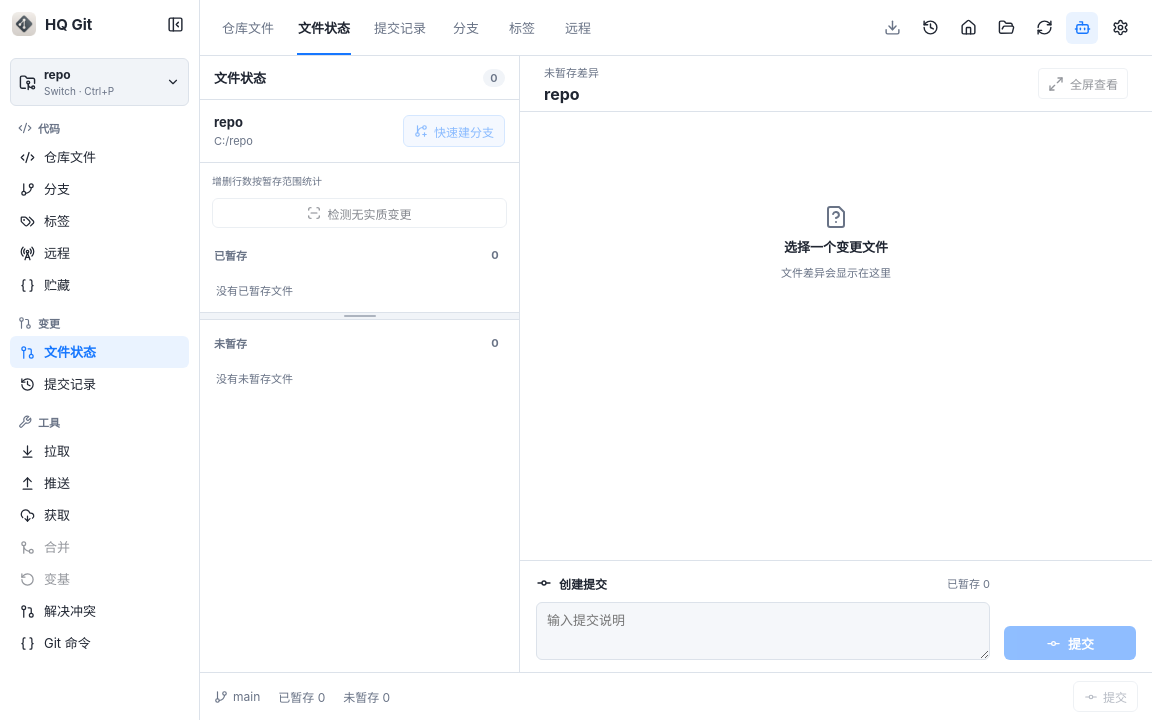
conflict workbench › requires acknowledgement for remaining conflict markers
Step 1. Click the button with aria-label "打开解决冲突" → (100, 611), box left=10, top=595, right=189, bottom=627
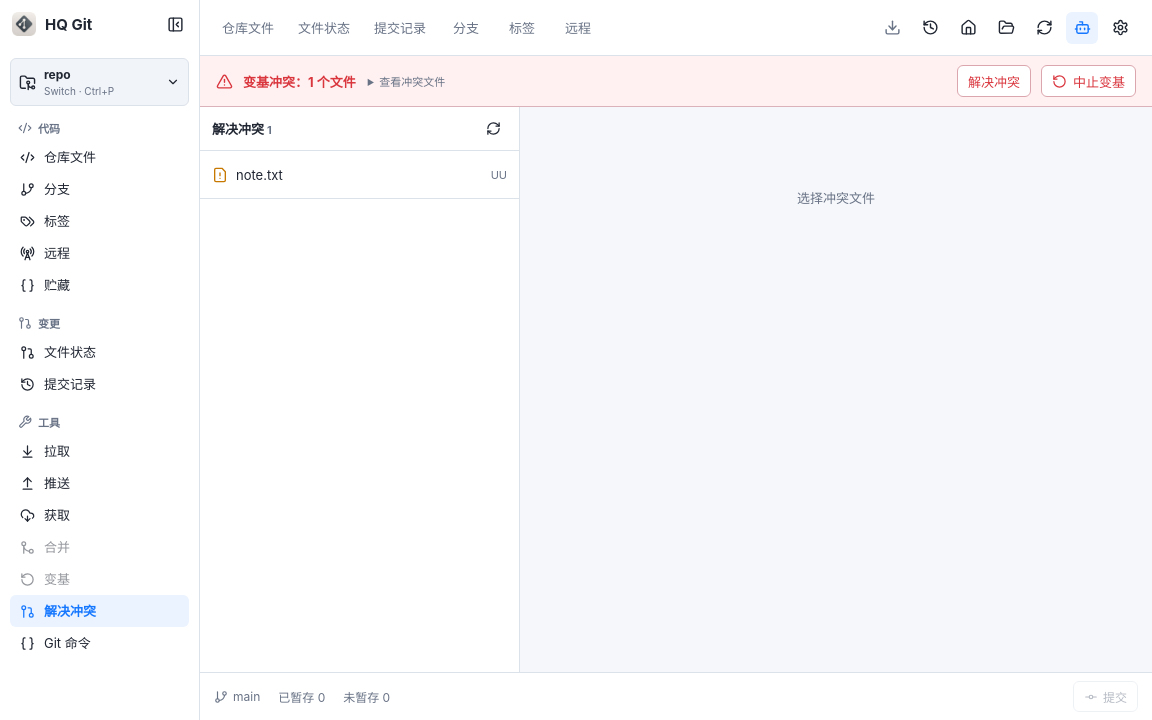
Step 2. Click the button with aria-label "查看冲突 note.txt" → (259, 174), box left=200, top=151, right=519, bottom=199
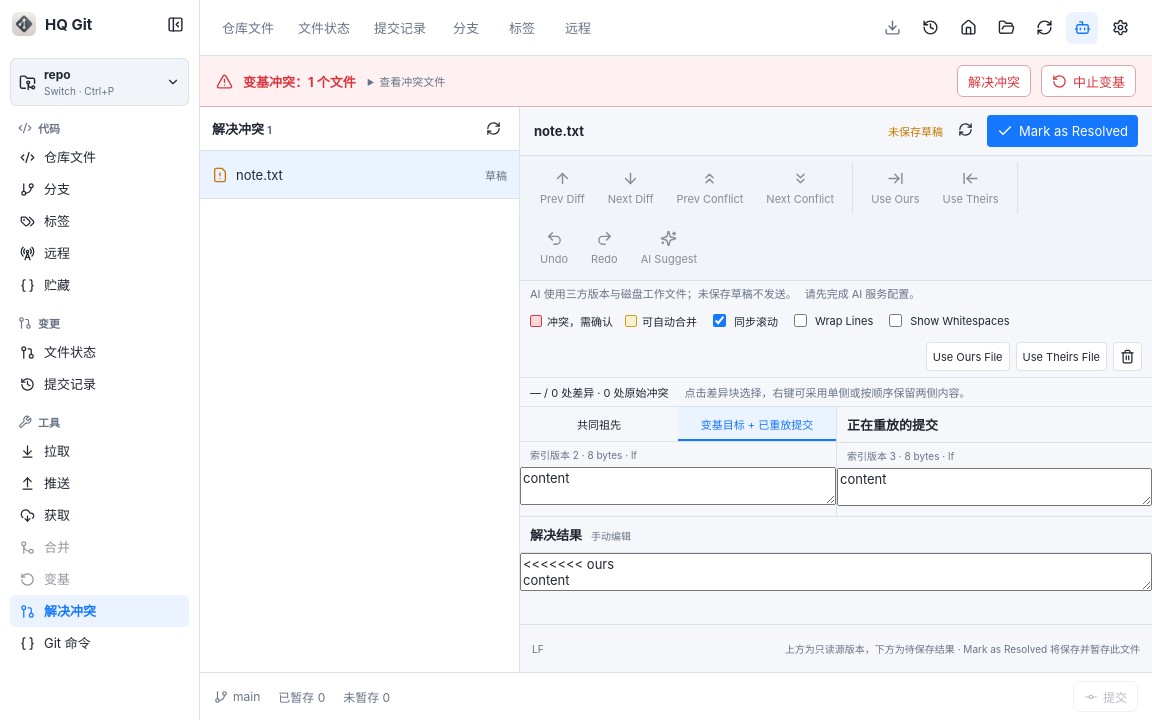
Step 3. Click the button with aria-label "保存并标记已解决" → (1062, 131), box left=987, top=115, right=1138, bottom=147
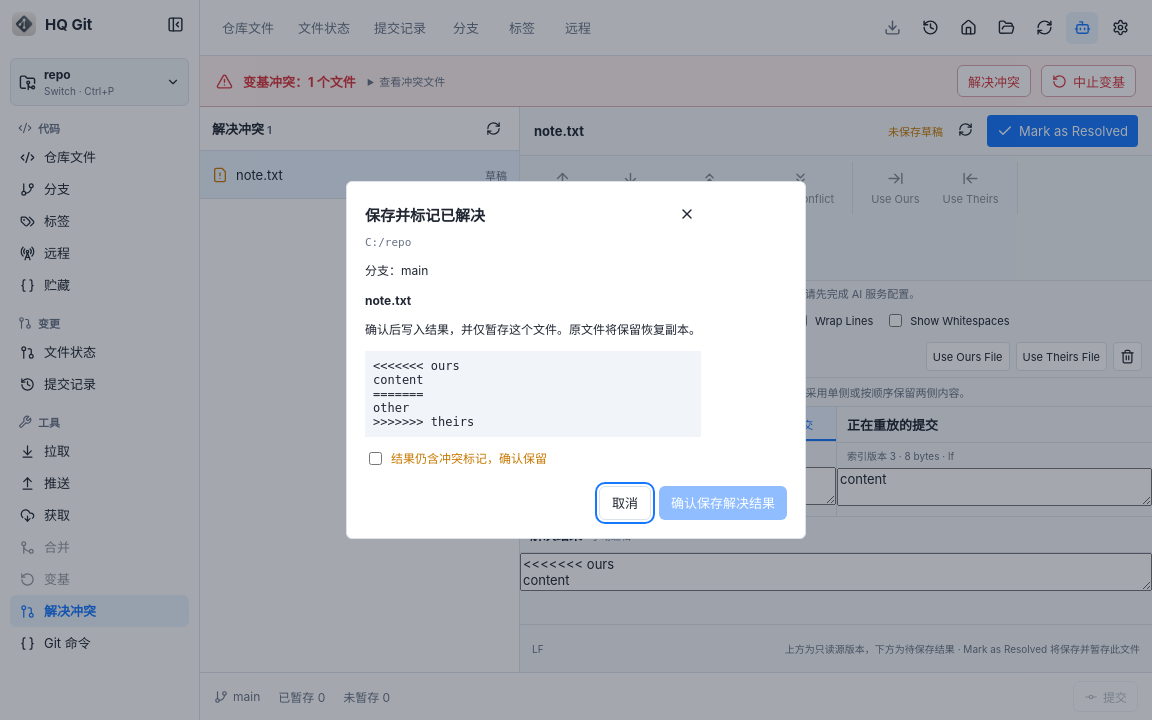
Check: the button with aria-label "确认保存解决结果" is disabled, box left=659, top=486, right=787, bottom=520
Step 4. Click the checkbox named "确认保留冲突标记" → (376, 458), box left=369, top=452, right=382, bottom=465
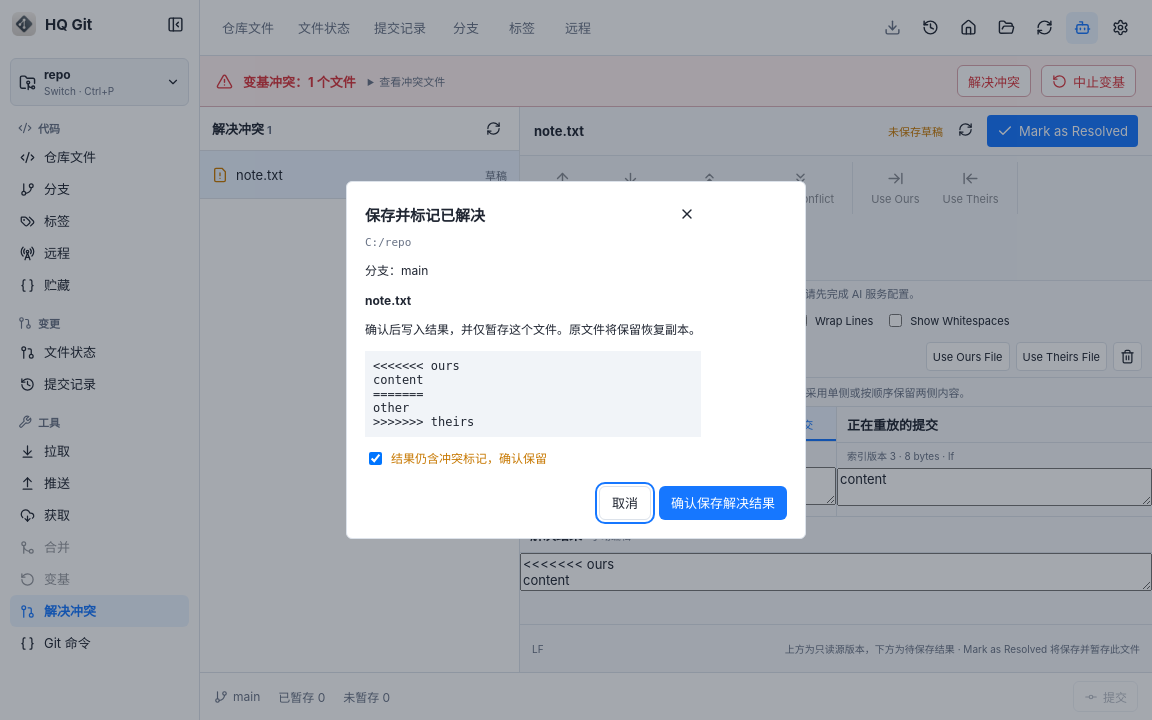
Check: the button with aria-label "确认保存解决结果" is enabled, box left=659, top=486, right=787, bottom=520
